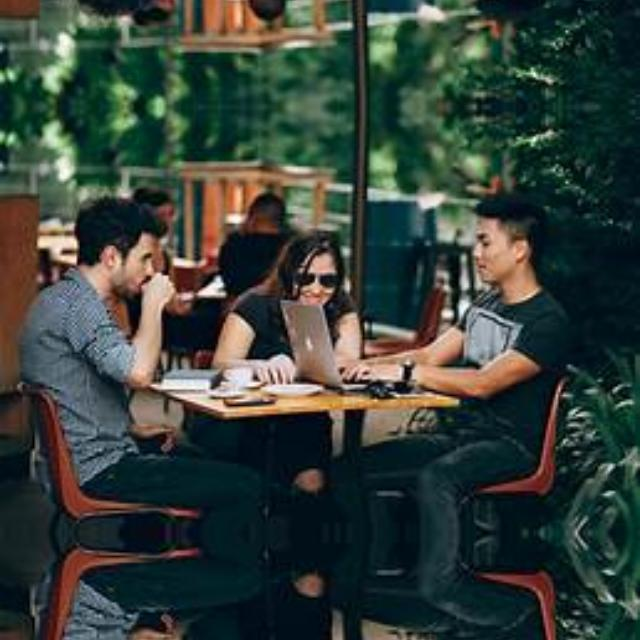person: (32, 185, 196, 492), (408, 193, 560, 472), (215, 231, 353, 343), (32, 572, 195, 640), (407, 592, 560, 640), (32, 0, 195, 26), (407, 0, 560, 18)
